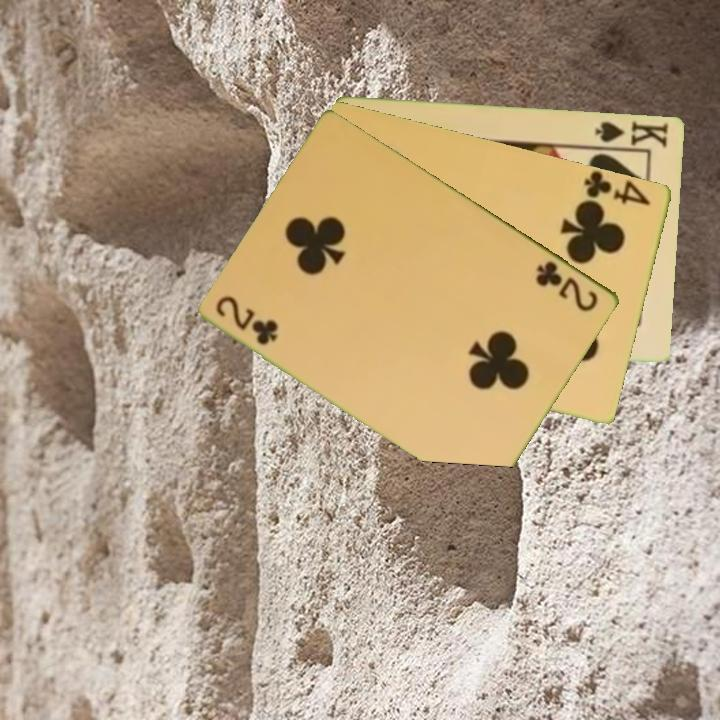2c: (532, 257, 602, 315), (212, 292, 282, 349)
4c: (581, 169, 653, 208)
Ks: (589, 117, 672, 153)
